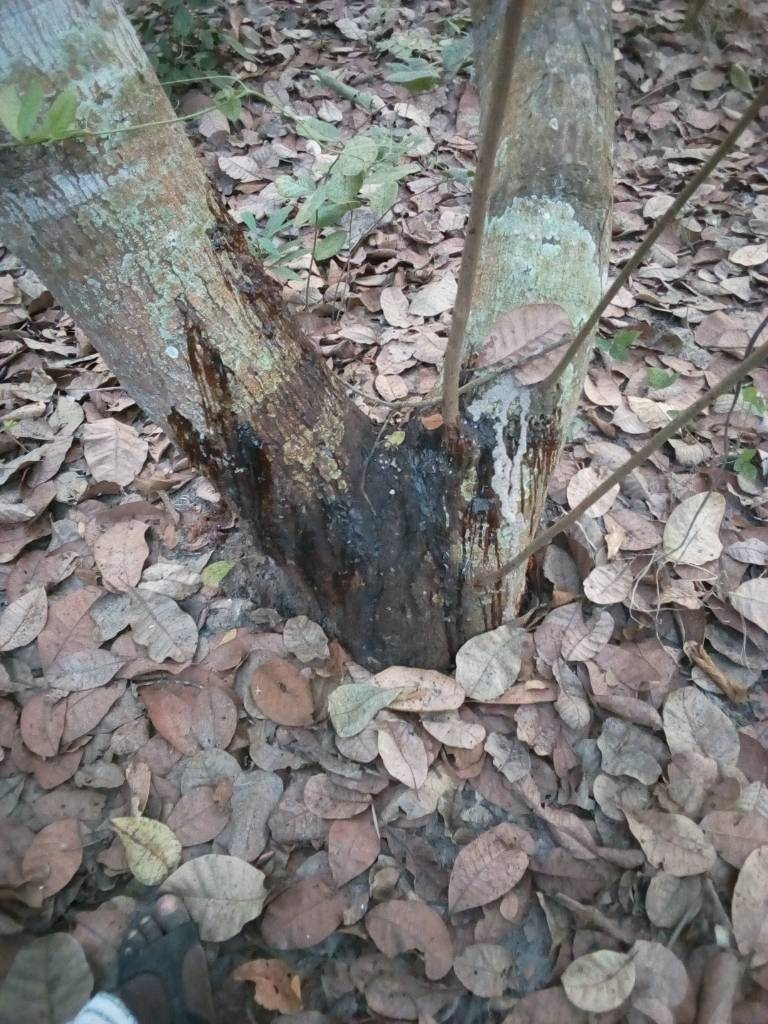Gommose: (169, 300, 371, 596), (413, 419, 552, 635)
